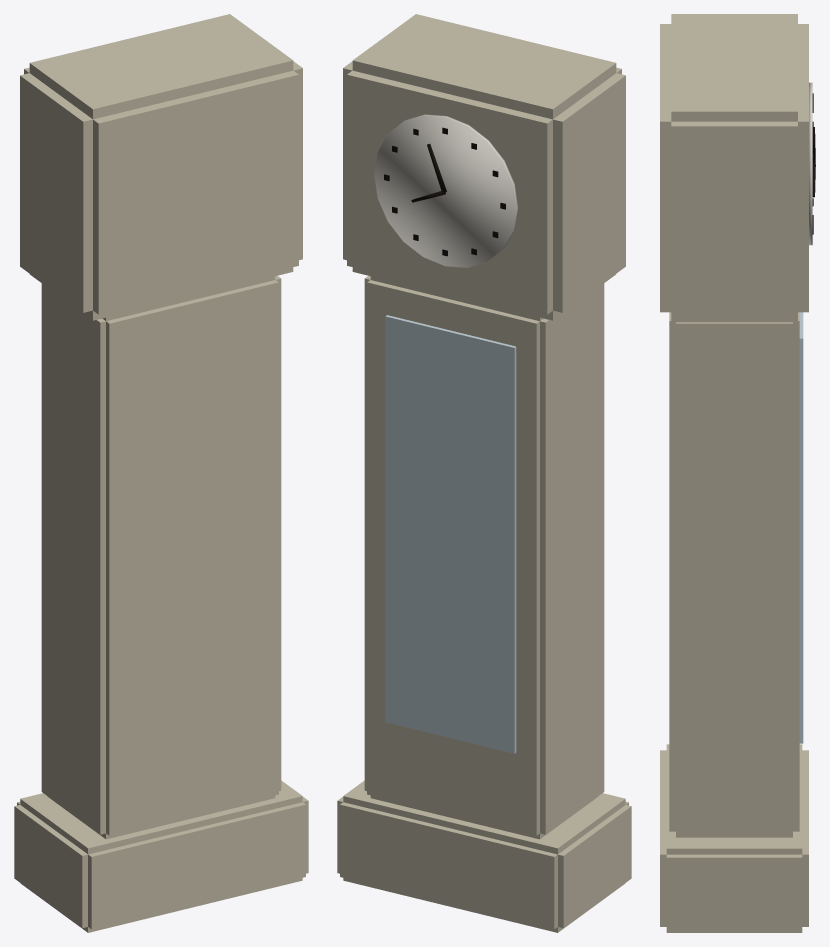
File: bone_clock_v0.glb
The picture shows the model from 3 angles, left to right: view 1: azimuth 30°, elevation 25°; view 2: azimuth 150°, elevation 25°; view 3: azimuth 270°, elevation 25°; orthographic projection.
Visible parts, largest first — view 1: bone_clock_v0; view 2: bone_clock_v0; view 3: bone_clock_v0.
Part boxes in pixels (bbox=[...]): bone_clock_v0: bbox=[14, 14, 308, 932]; bone_clock_v0: bbox=[337, 14, 631, 932]; bone_clock_v0: bbox=[660, 14, 815, 932].
Size of the model in its own units: 0.7 by 2.42 by 0.4185.
